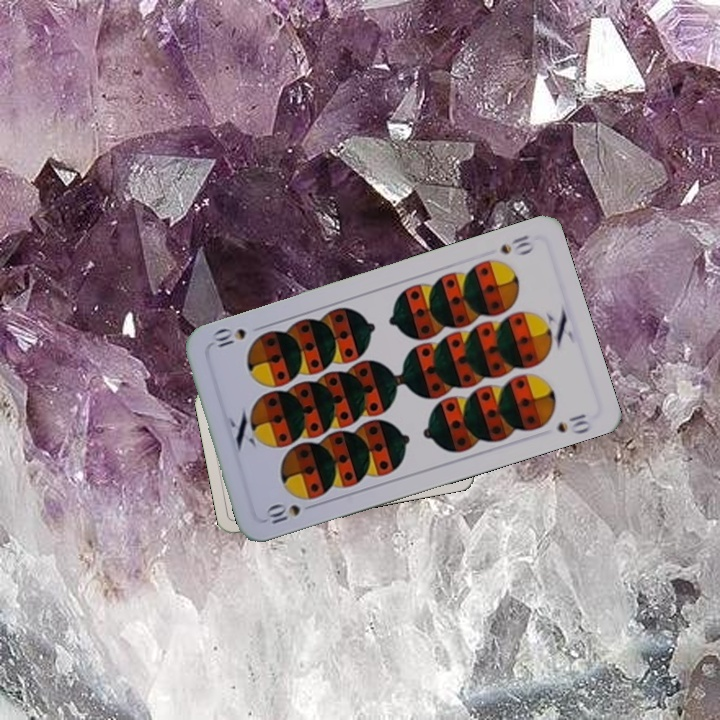S10: (262, 499, 319, 527), (495, 231, 538, 258)
